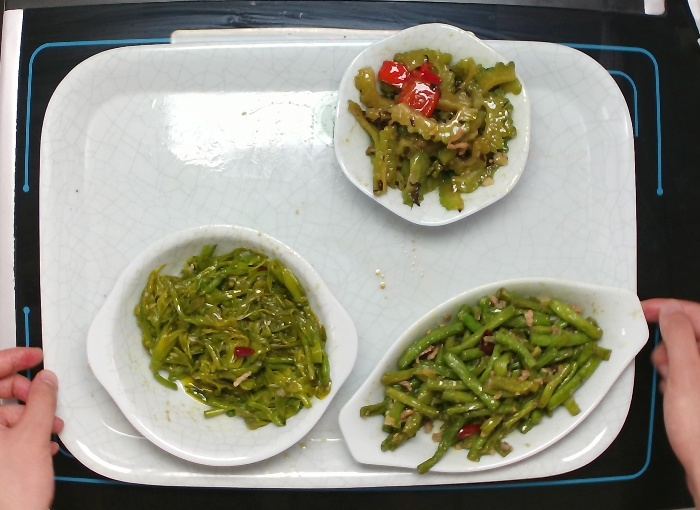JYsf-Shuang_Er_Wan: (73, 227, 362, 471)
JYsf-Yu_Pan: (327, 276, 656, 477)
WCQzf-Hua_Duo_Wan: (330, 20, 534, 234)
